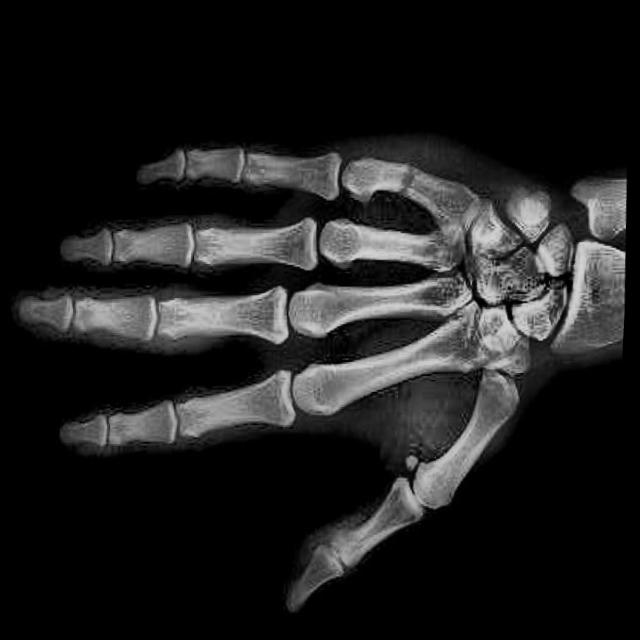fracture: (401, 155, 421, 196)
